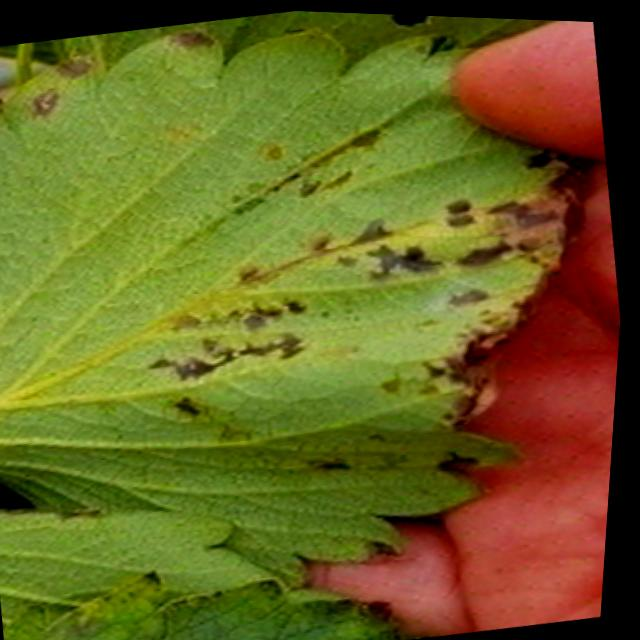Angular Leafspot: (128, 107, 587, 497)
